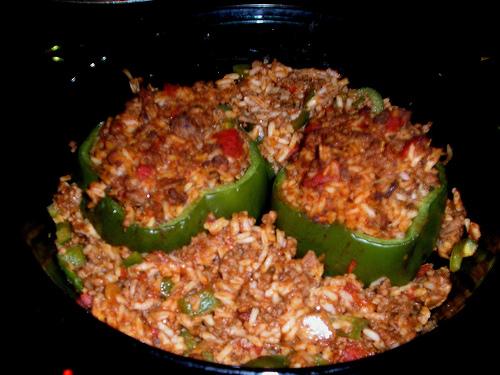capsicum: (274, 89, 452, 286), (79, 114, 270, 254)
